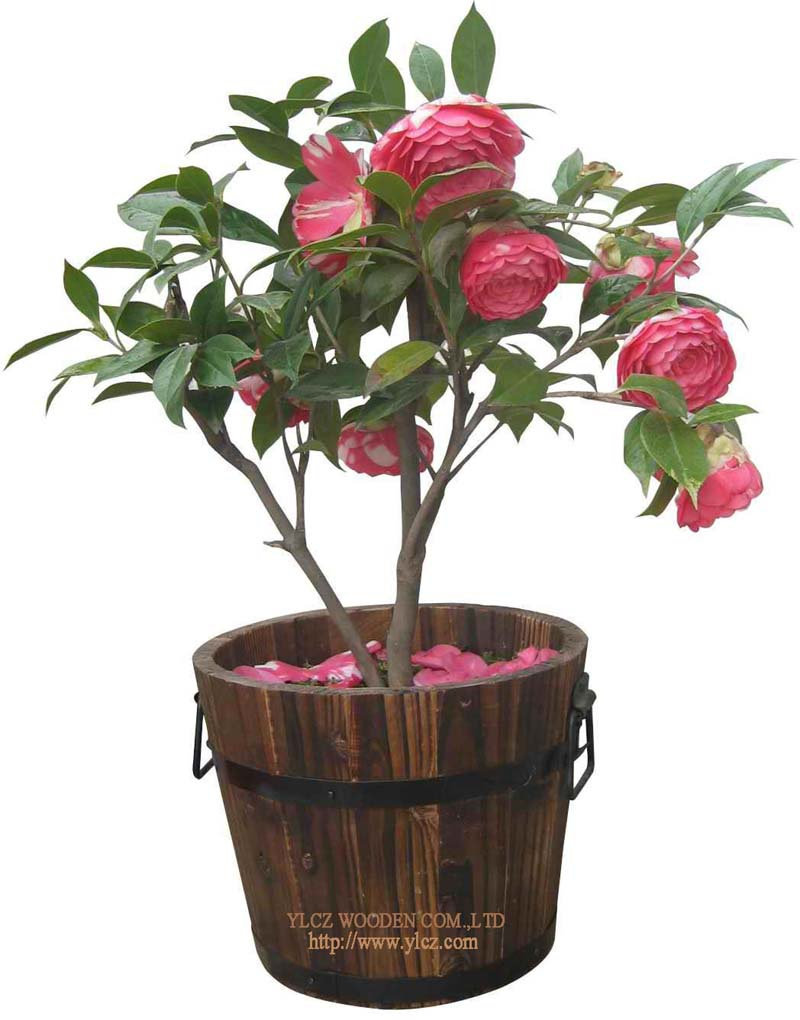flowerpot: (194, 599, 602, 1016)
